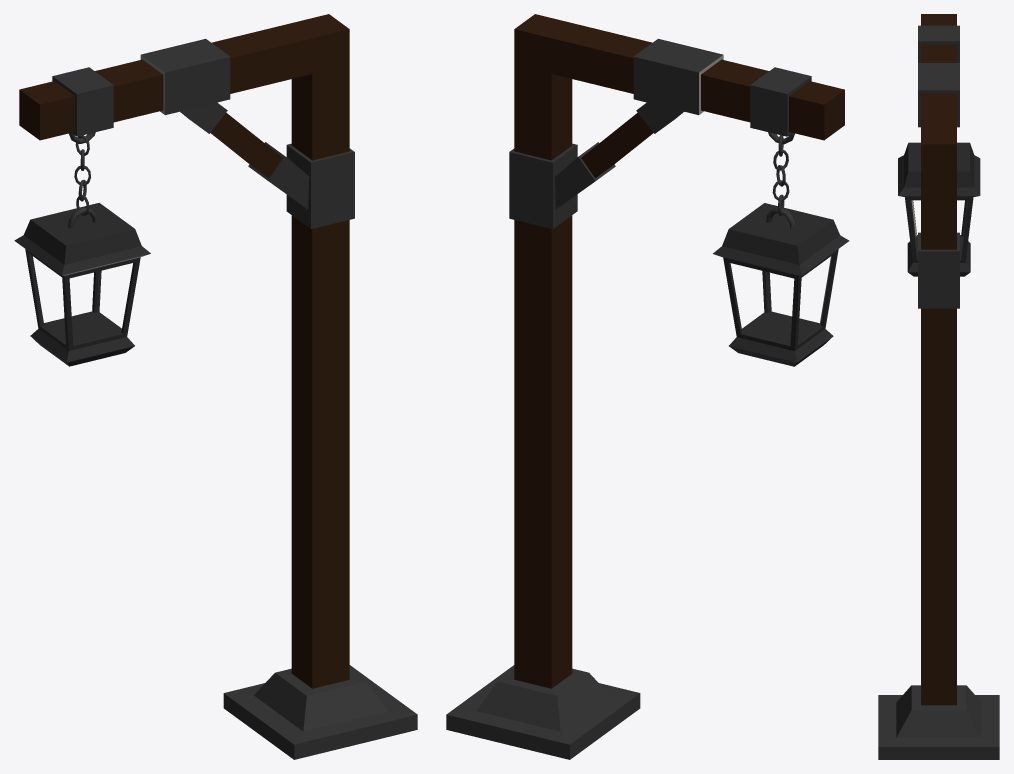
Rendered from lantern.FBX.
3 renders of one model, left to right at view 1: azimuth 30°, elevation 25°; view 2: azimuth 150°, elevation 25°; view 3: azimuth 270°, elevation 25°, orthographic. The views are drawn at different scales.
Parts seen in each view (by area): view 1: Box001; view 2: Box001; view 3: Box001.
Part boxes in pixels (x1,y1,x2,y2): Box001: (14, 14, 417, 759); Box001: (446, 14, 849, 759); Box001: (878, 14, 999, 759).
Size of the model in its own units: 227 by 428 by 78.62.
